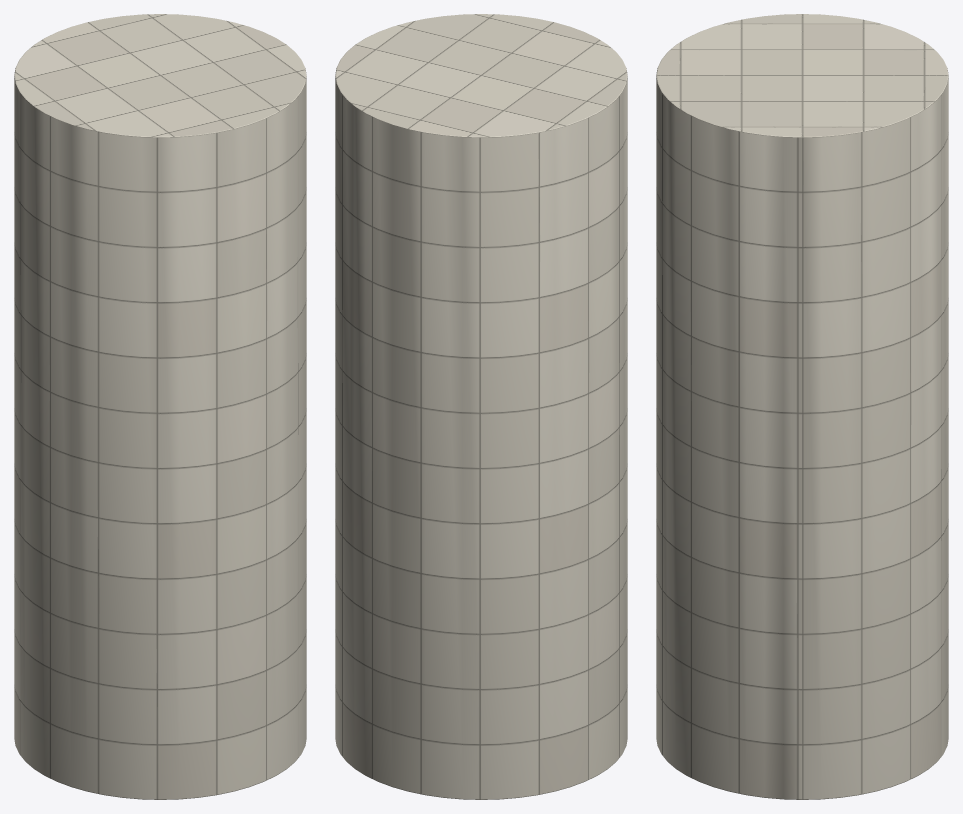
File: MOD_36_Column_Round.glb
3 renders of one model, left to right at view 1: azimuth 30°, elevation 25°; view 2: azimuth 150°, elevation 25°; view 3: azimuth 270°, elevation 25°, orthographic.
Parts seen in each view (by area): view 1: MOD_36_Column_Round_Export; view 2: MOD_36_Column_Round_Export; view 3: MOD_36_Column_Round_Export.
Part boxes in pixels (x1,y1,x2,y2): MOD_36_Column_Round_Export: (14,14,306,799); MOD_36_Column_Round_Export: (335,14,627,799); MOD_36_Column_Round_Export: (656,14,948,799).
Bounding box in the file's own units: 1.2 × 3 × 1.2.
Materials: 1 (1 with a texture image).
